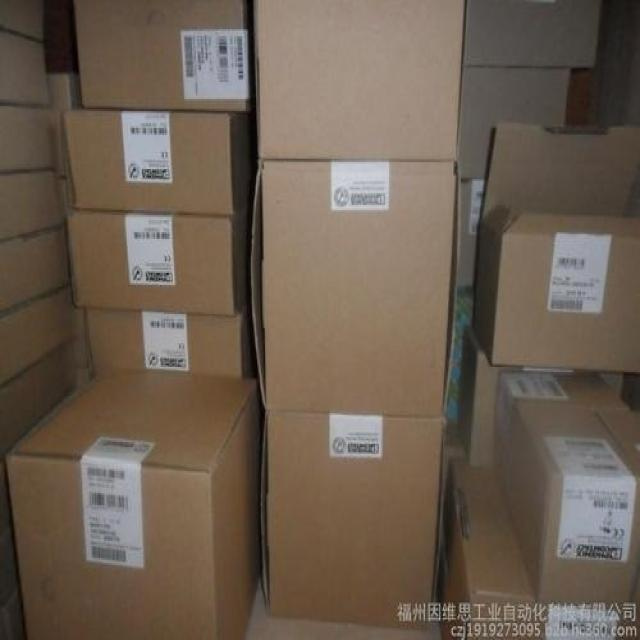box: (3, 368, 261, 638), (250, 160, 460, 413), (469, 123, 639, 374), (259, 409, 446, 630), (436, 457, 639, 638), (254, 3, 466, 160), (505, 398, 639, 615), (69, 198, 251, 318), (0, 334, 76, 606), (62, 111, 251, 214), (71, 1, 248, 110), (491, 366, 630, 492), (85, 294, 253, 379), (458, 62, 571, 178), (463, 3, 599, 65), (0, 285, 74, 384), (456, 327, 501, 469), (1, 223, 70, 313), (1, 167, 63, 241), (442, 287, 471, 427), (1, 28, 50, 105), (47, 72, 82, 176), (0, 103, 52, 171), (456, 178, 487, 290), (52, 171, 72, 284), (0, 1, 45, 42), (0, 583, 28, 638), (73, 304, 91, 365), (443, 425, 471, 460), (75, 364, 91, 389)
